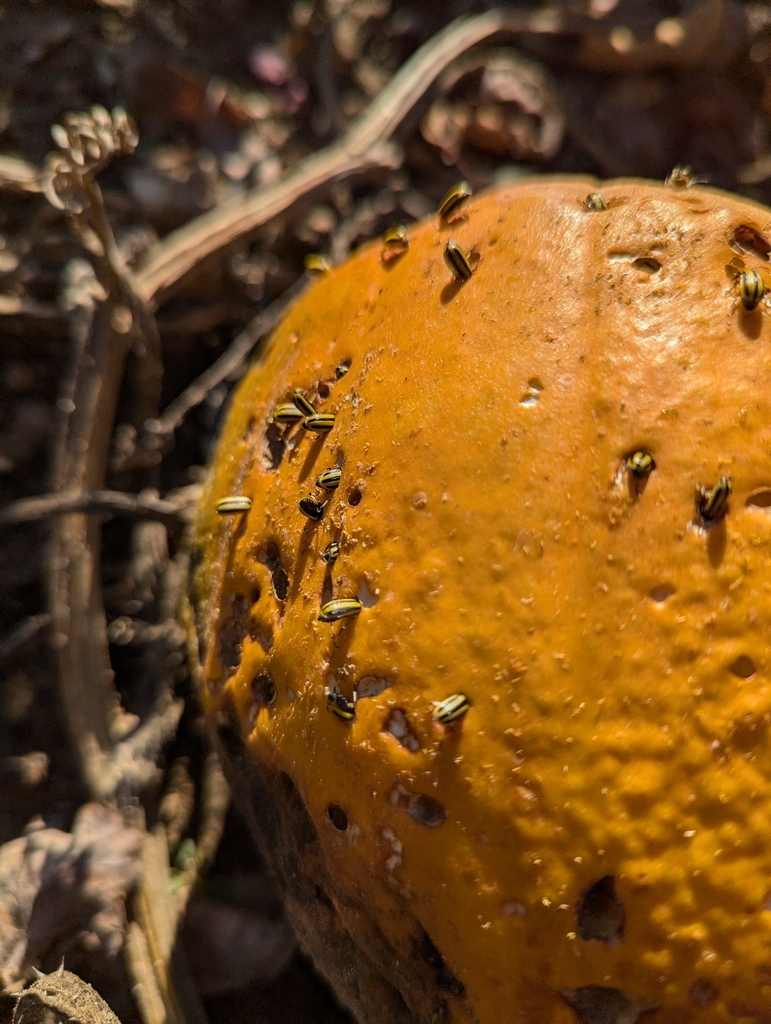potato_beetle: (300, 572, 381, 642), (313, 664, 373, 739)
